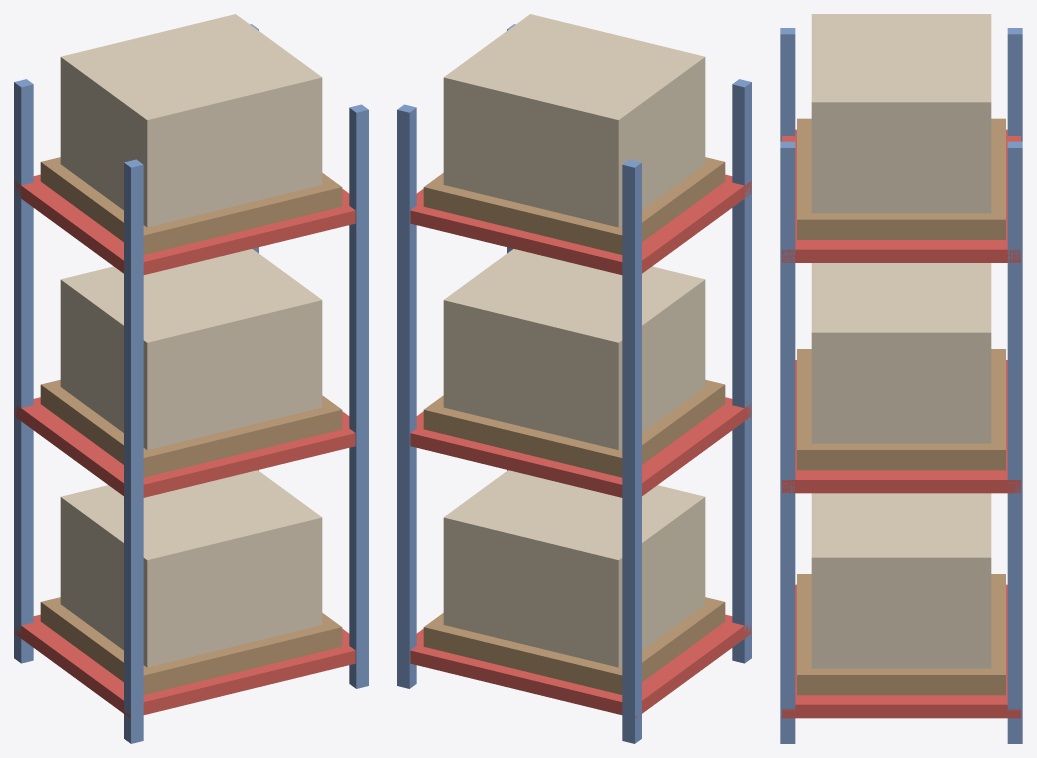
Rendered from pallet_rack.glb.
The picture shows the model from 3 angles, left to right: view 1: azimuth 30°, elevation 25°; view 2: azimuth 150°, elevation 25°; view 3: azimuth 270°, elevation 25°; orthographic projection. The views are drawn at different scales.
Parts seen in each view (by area): view 1: pallet_rack; view 2: pallet_rack; view 3: pallet_rack.
Part boxes in pixels (left/top/right/bottom): pallet_rack: left=14, top=14, right=368, bottom=743; pallet_rack: left=397, top=14, right=751, bottom=743; pallet_rack: left=780, top=14, right=1022, bottom=743.
Size of the model in its own units: 0.95 by 2.31 by 0.81.
